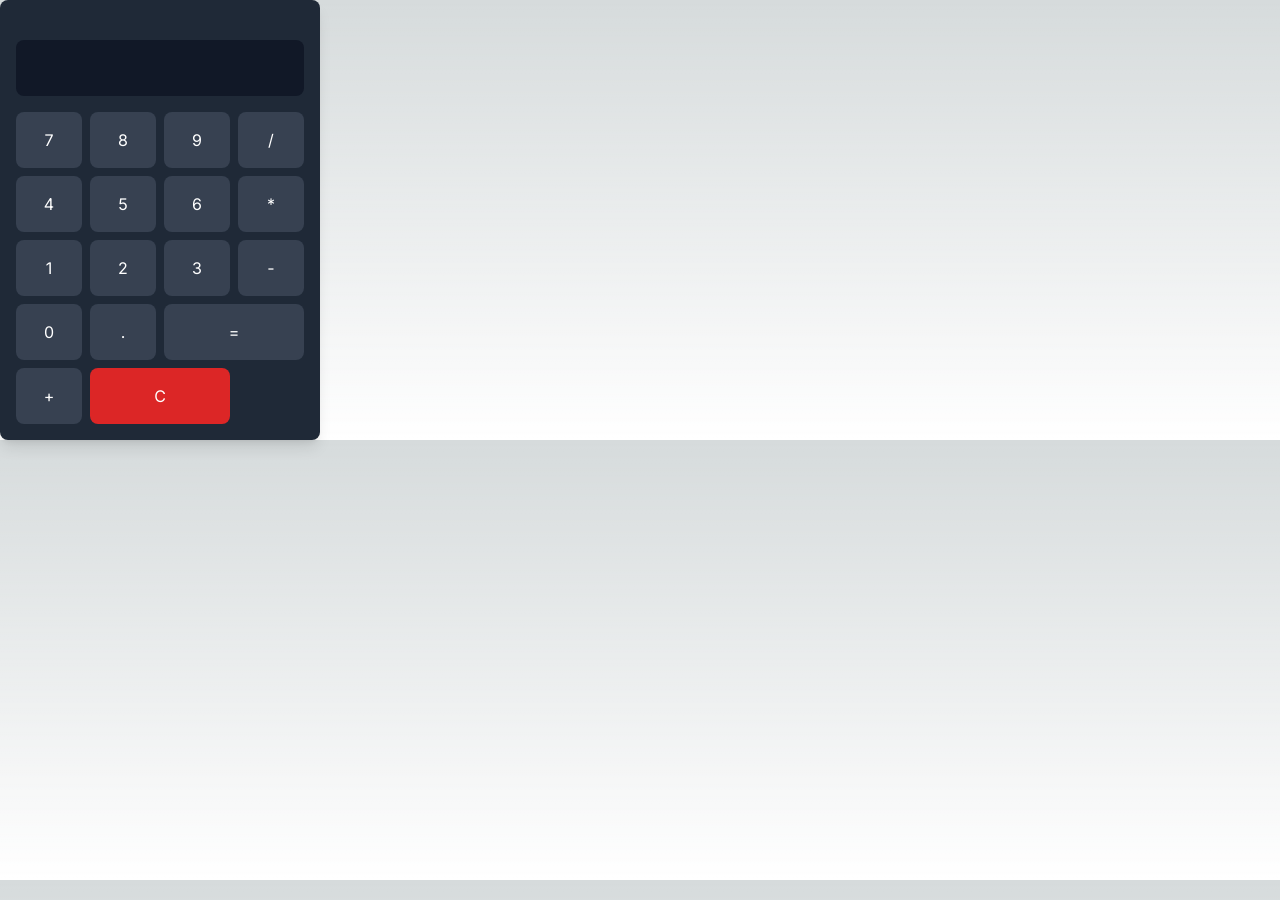
Test: Calculator › should display correct input when number buttons are clicked
The image size is (1280, 900).
Click the button "1" at point(49, 268), box [16,240,82,296]
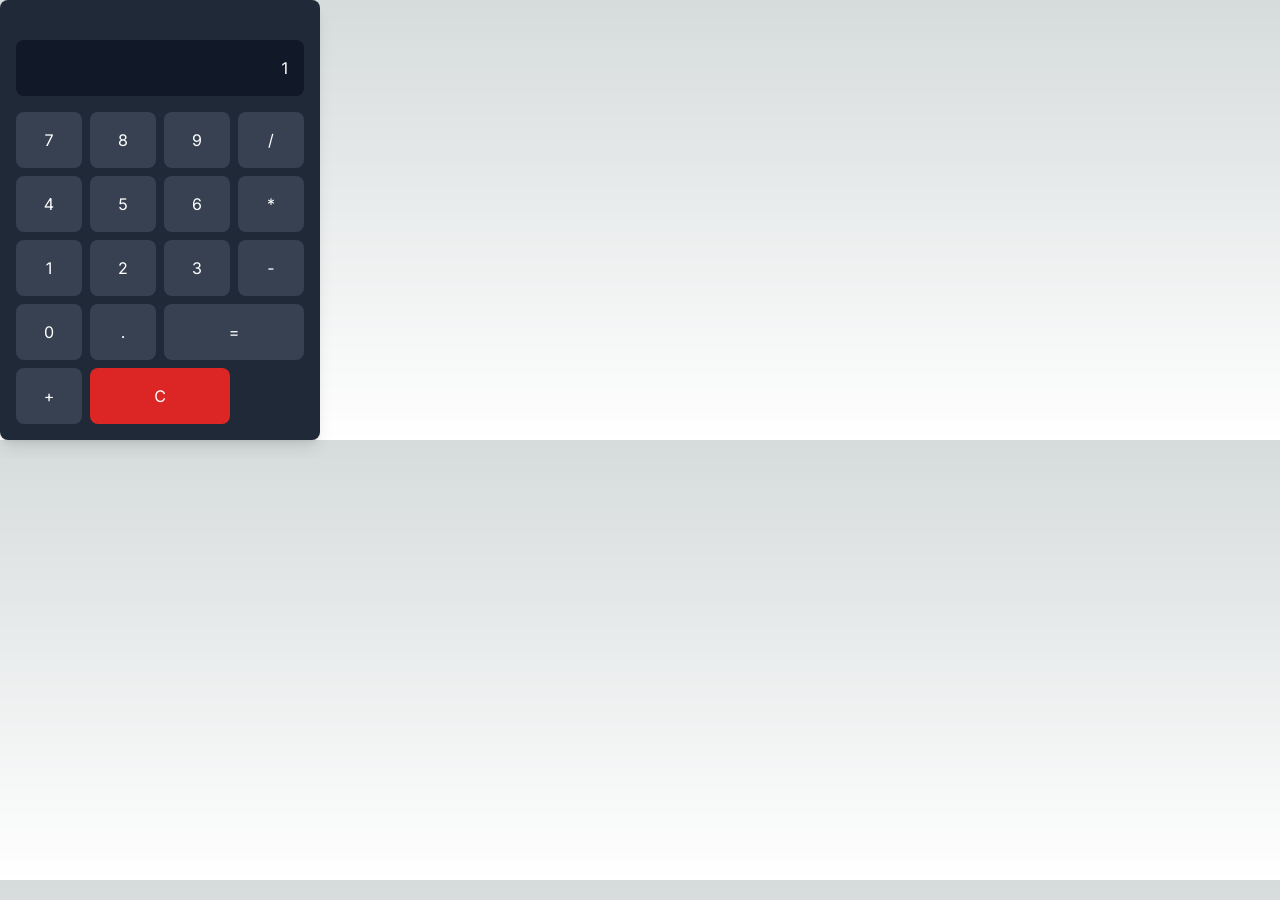
Click the button "2" at point(123, 268), box [90,240,156,296]
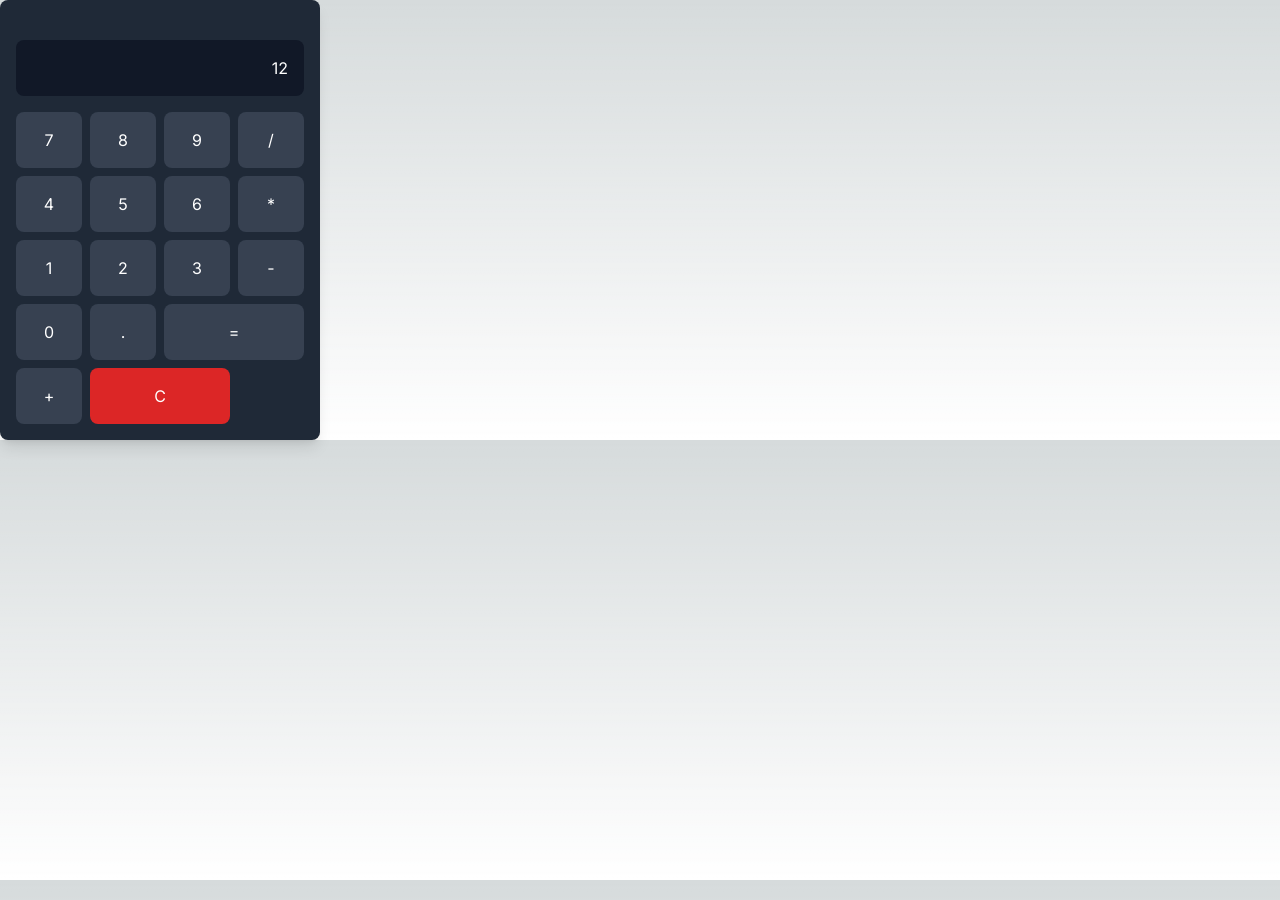
Click the button "3" at point(197, 268), box [164,240,230,296]
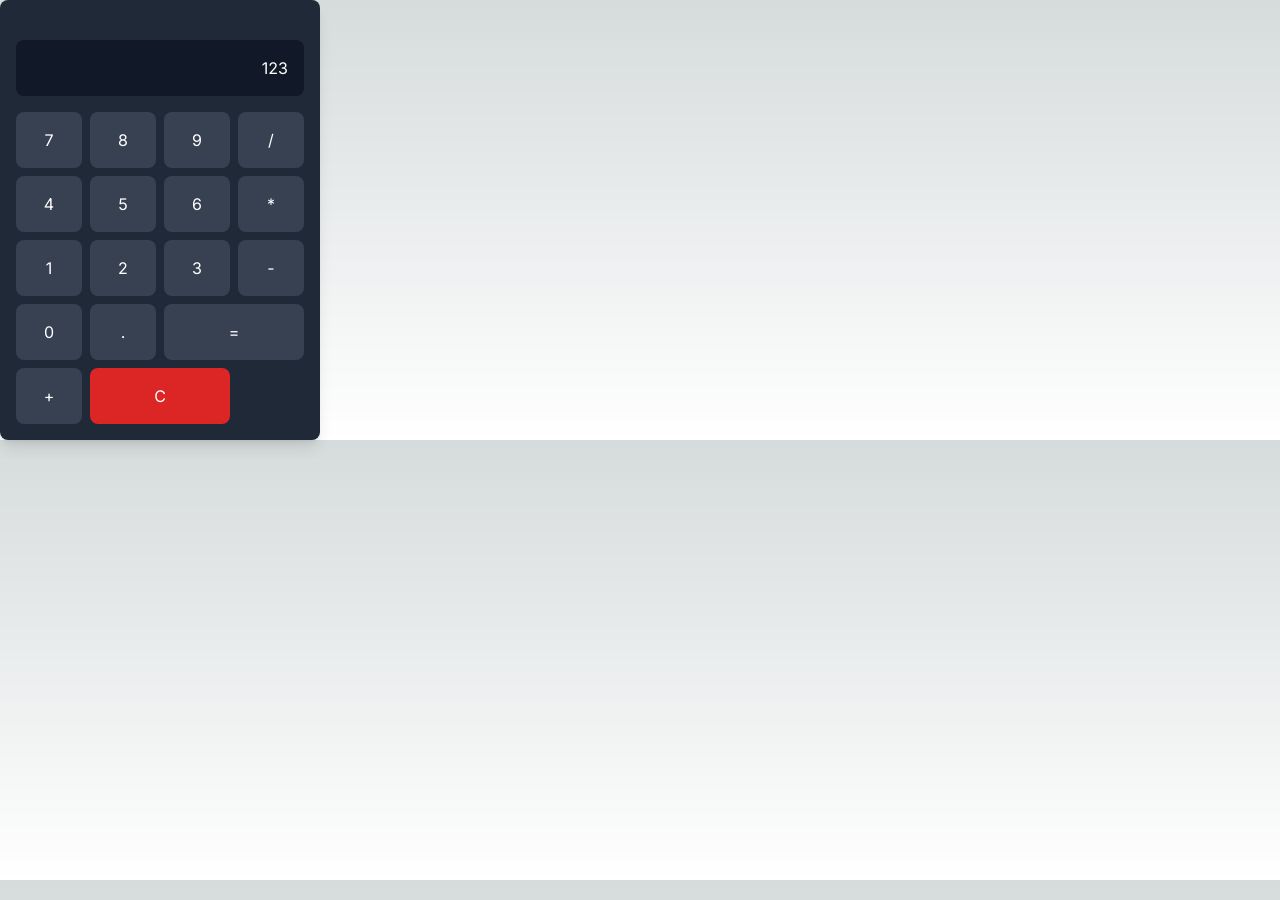
Now the text "123" is shown, box [16,40,304,96]
